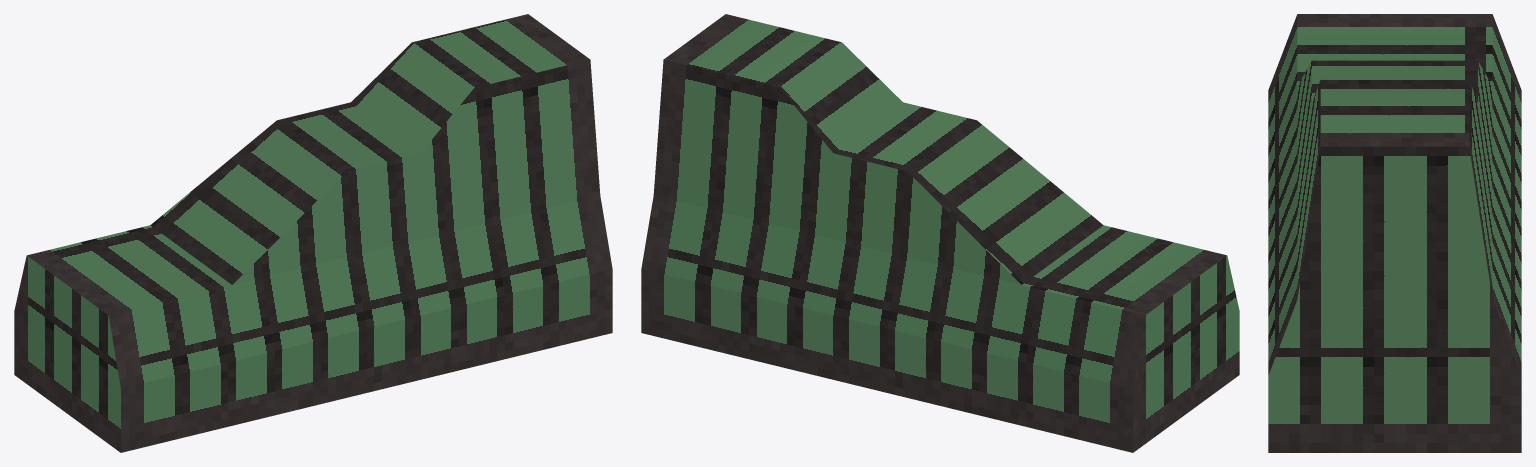
File: detail_barrier_strong_damaged.glb
The picture shows the model from 3 angles, left to right: view 1: azimuth 30°, elevation 25°; view 2: azimuth 150°, elevation 25°; view 3: azimuth 270°, elevation 25°; orthographic projection. The views are drawn at different scales.
Parts seen in each view (by area): view 1: detail-barrier-strong-damaged; view 2: detail-barrier-strong-damaged; view 3: detail-barrier-strong-damaged.
Boxes of the visible parts, left/top/right/bottom form: detail-barrier-strong-damaged: left=14, top=14, right=612, bottom=452; detail-barrier-strong-damaged: left=641, top=14, right=1239, bottom=452; detail-barrier-strong-damaged: left=1268, top=14, right=1521, bottom=452.
Size of the model in its own units: 0.664 by 0.332 by 0.249.
1 material, 1 textured.
